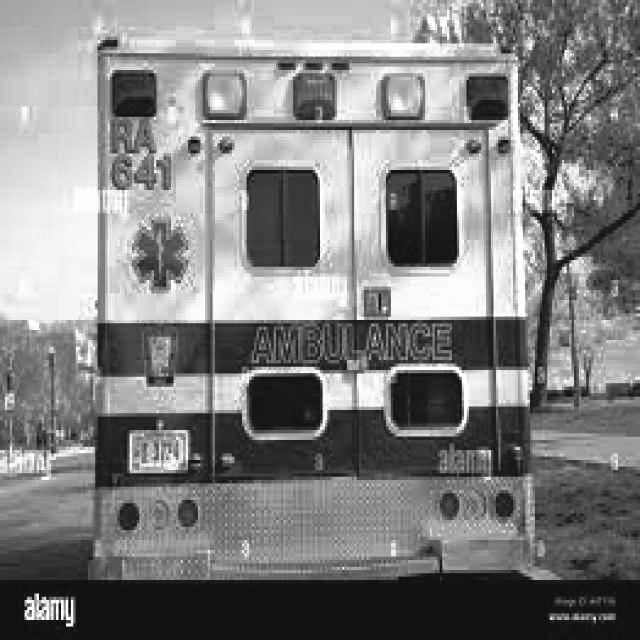LCV: (92, 41, 538, 579)
